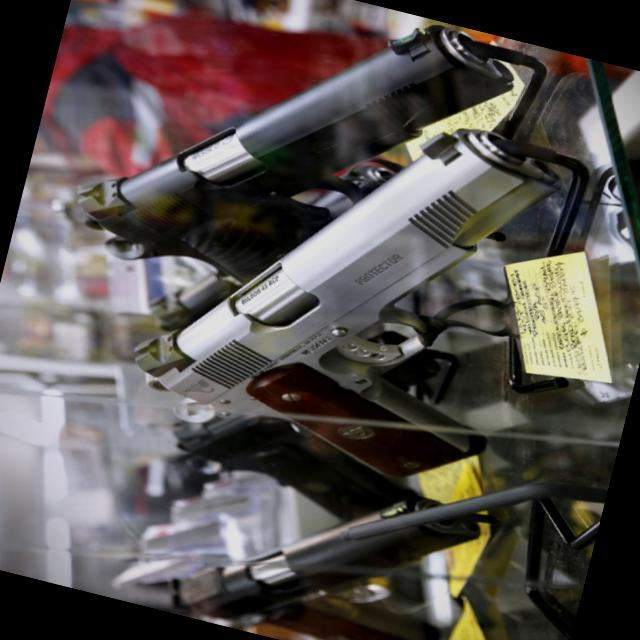handgun: (103, 56, 568, 536), (50, 0, 515, 353), (145, 386, 561, 639)
